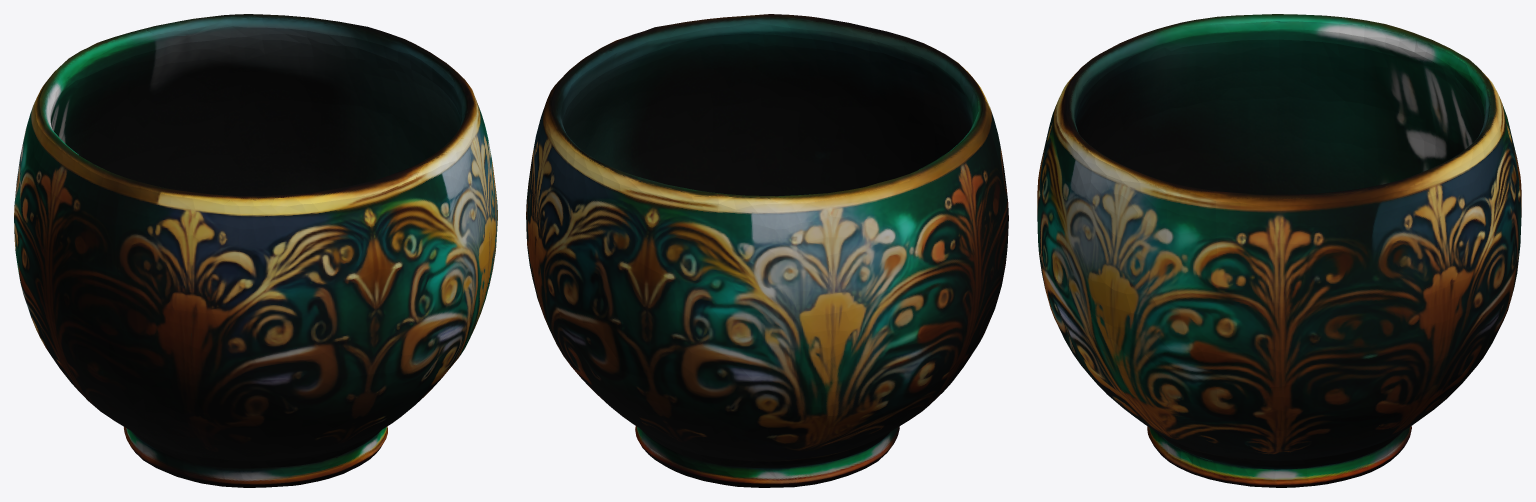
Rendered from ceramic-egg-cup-art-deco.jpeg.glb.
The picture shows the model from 3 angles, left to right: view 1: azimuth 30°, elevation 25°; view 2: azimuth 150°, elevation 25°; view 3: azimuth 270°, elevation 25°; orthographic projection.
Parts seen in each view (by area): view 1: world; view 2: world; view 3: world.
Boxes of the visible parts, left/top/right/bottom form: world: left=14, top=14, right=497, bottom=487; world: left=526, top=14, right=1008, bottom=487; world: left=1037, top=14, right=1521, bottom=487.
Size of the model in its own units: 0.9985 by 0.7548 by 0.9995.
Materials: 1 (1 with a texture image).
